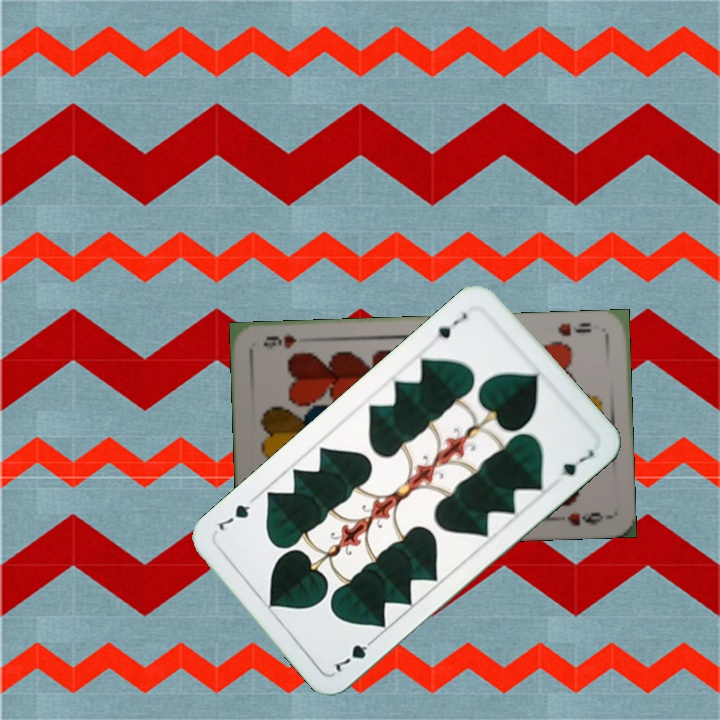G7: (329, 632, 379, 676), (433, 308, 470, 341)
H9: (554, 318, 593, 339)
